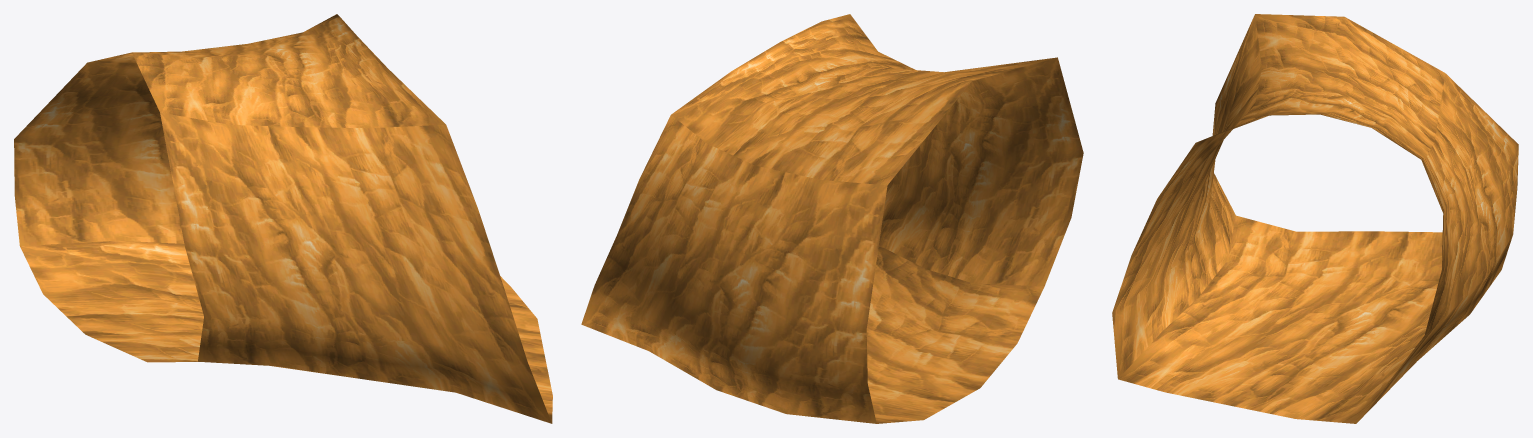
The model's file is TROLLHOLE02_PS-SECRETCAVE04.fbx.
3 renders of one model, left to right at view 1: azimuth 30°, elevation 25°; view 2: azimuth 150°, elevation 25°; view 3: azimuth 270°, elevation 25°, orthographic. The views are drawn at different scales.
Parts seen in each view (by area): view 1: TROLLHOLE02_PS-SECRETCAVE04; view 2: TROLLHOLE02_PS-SECRETCAVE04; view 3: TROLLHOLE02_PS-SECRETCAVE04.
Part boxes in pixels (x1,y1,x2,y2): TROLLHOLE02_PS-SECRETCAVE04: (14, 14, 552, 423); TROLLHOLE02_PS-SECRETCAVE04: (581, 14, 1083, 423); TROLLHOLE02_PS-SECRETCAVE04: (1112, 14, 1518, 423).
Bounding box in the file's own units: 50446 × 38681 × 54769.
3 materials, 3 textured.
